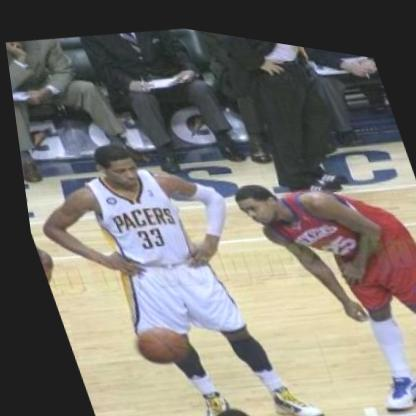basketball: (113, 309, 193, 377)
